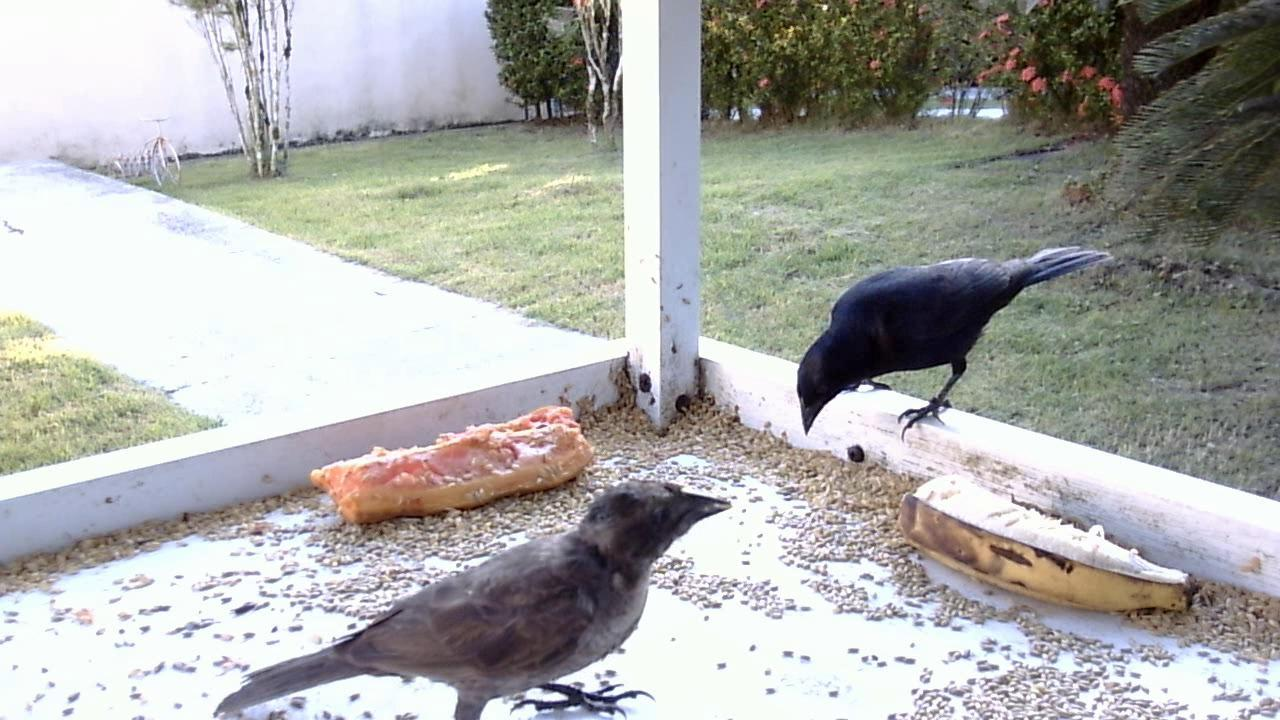chupim: (189, 475, 739, 720), (786, 237, 1109, 458)
